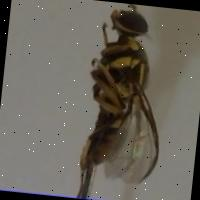Oriental-fruit-fly: (62, 0, 179, 185)
